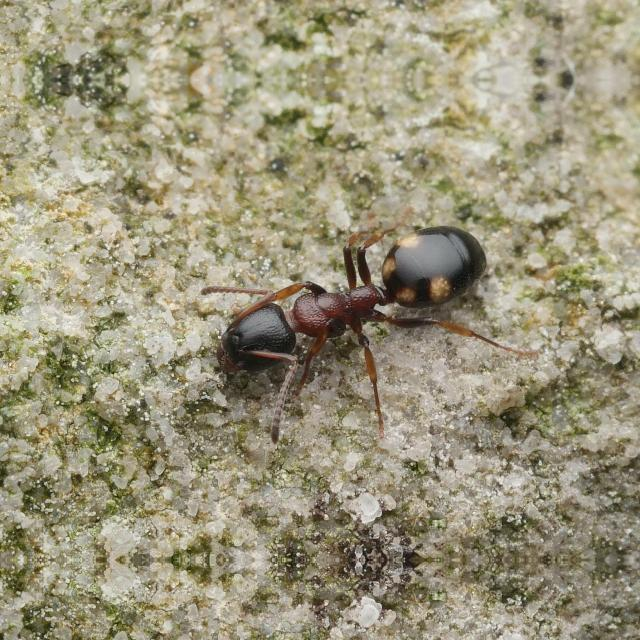Dolichoderus: (192, 204, 524, 392)
